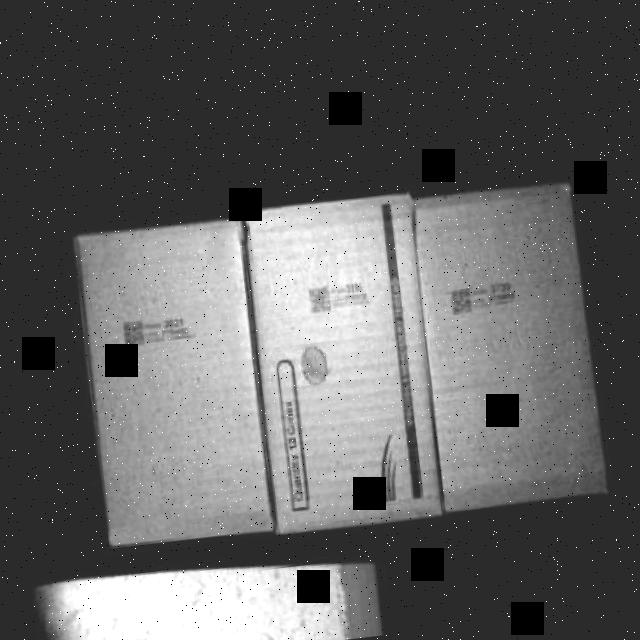box: (405, 172, 616, 516), (241, 192, 448, 532), (75, 215, 283, 550)
